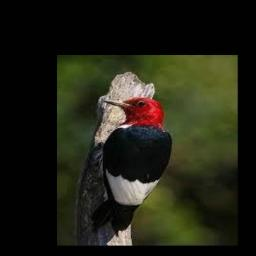Woodpecker: (92, 97, 175, 235)
